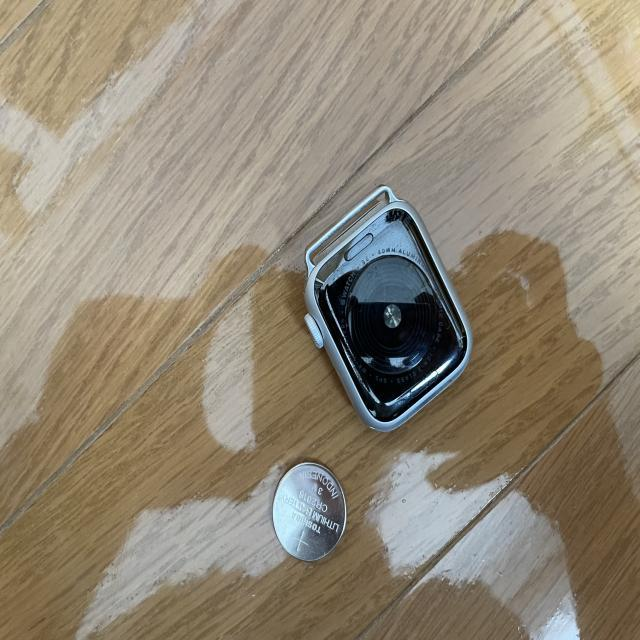COIN: (272, 462, 346, 562)
